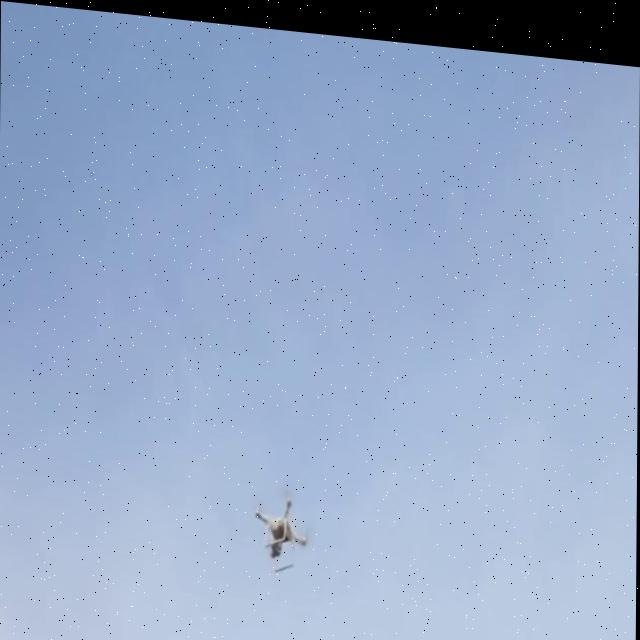drones: (222, 385, 372, 621)
